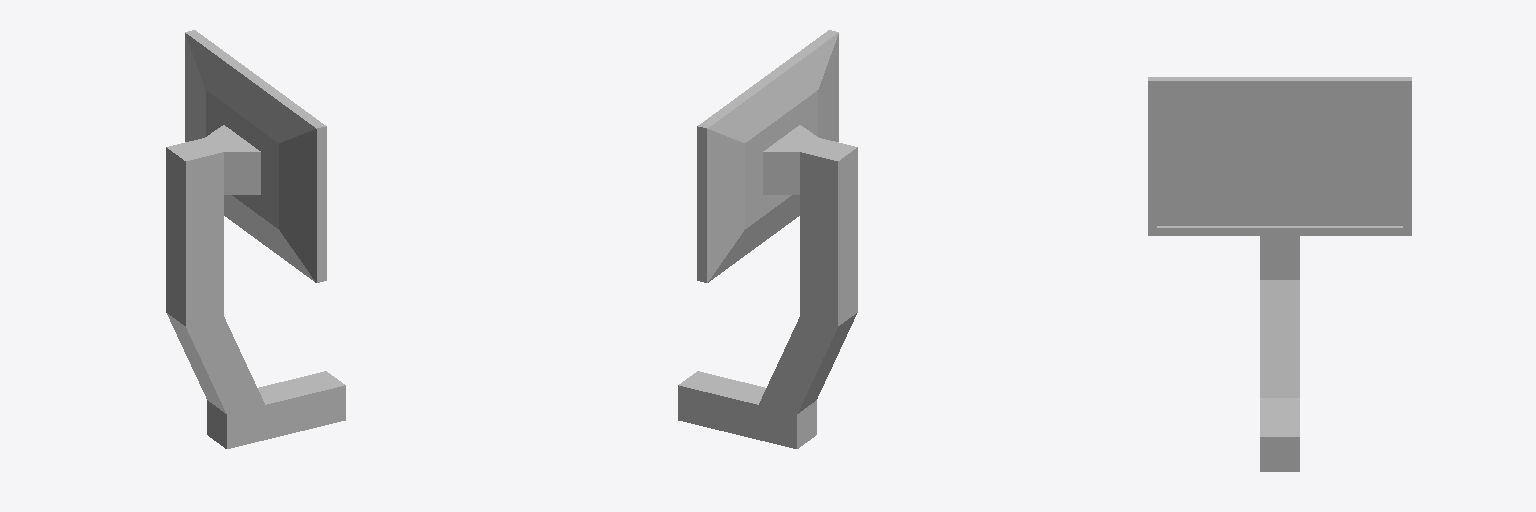
The model's file is PantallaMaquina.obj.
3 renders of one model, left to right at view 1: azimuth 30°, elevation 25°; view 2: azimuth 150°, elevation 25°; view 3: azimuth 270°, elevation 25°, orthographic.
Parts seen in each view (by area): view 1: Cube; view 2: Cube; view 3: Cube.
Part boxes in pixels (left/top/right/bottom): Cube: left=166, top=30, right=345, bottom=448; Cube: left=678, top=30, right=857, bottom=448; Cube: left=1148, top=77, right=1411, bottom=471.
Bounding box in the file's own units: 2.33 × 4.92 × 3.32.